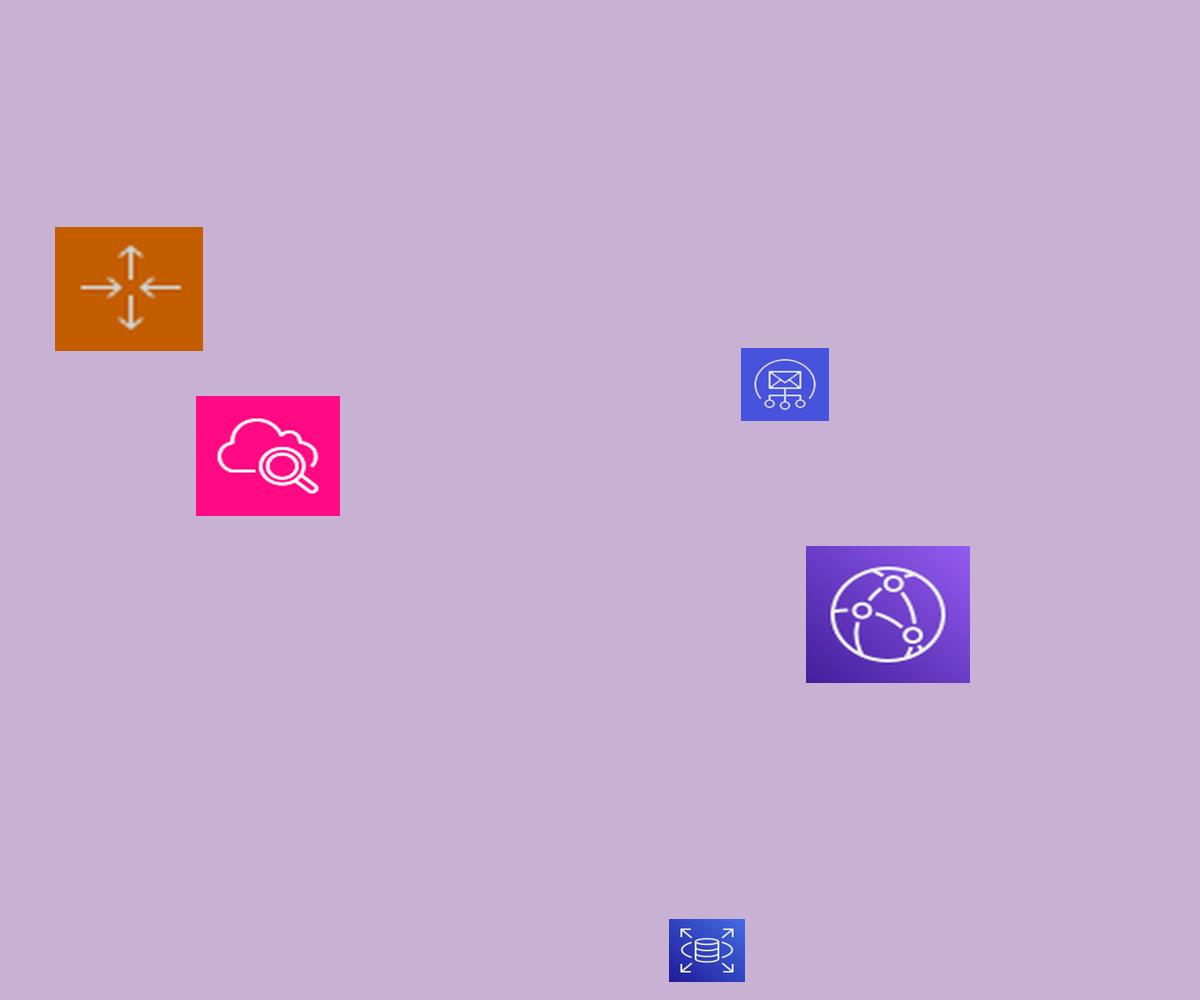AWS-CloudFront: (806, 546, 970, 683)
AWS-CloudWatch: (196, 396, 340, 516)
AWS-RDS: (669, 919, 745, 982)
AWS-Scaling-group: (55, 227, 203, 351)
AWS-Simple-Email-Service: (741, 348, 829, 421)
